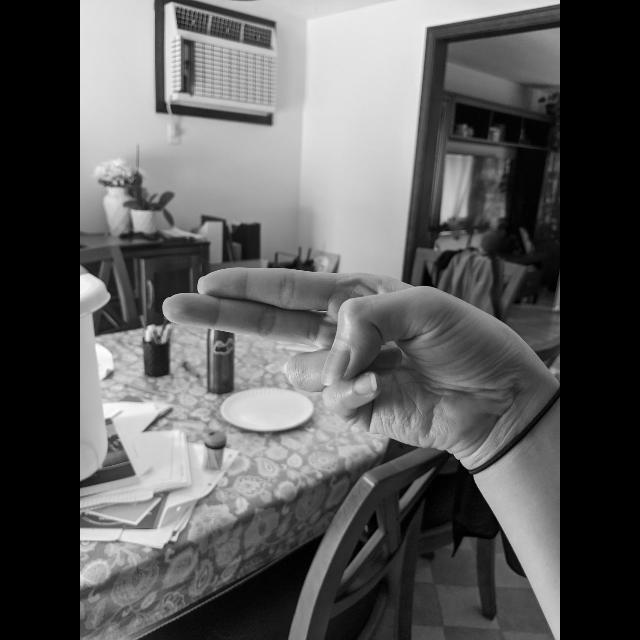H: (157, 262, 517, 458)
